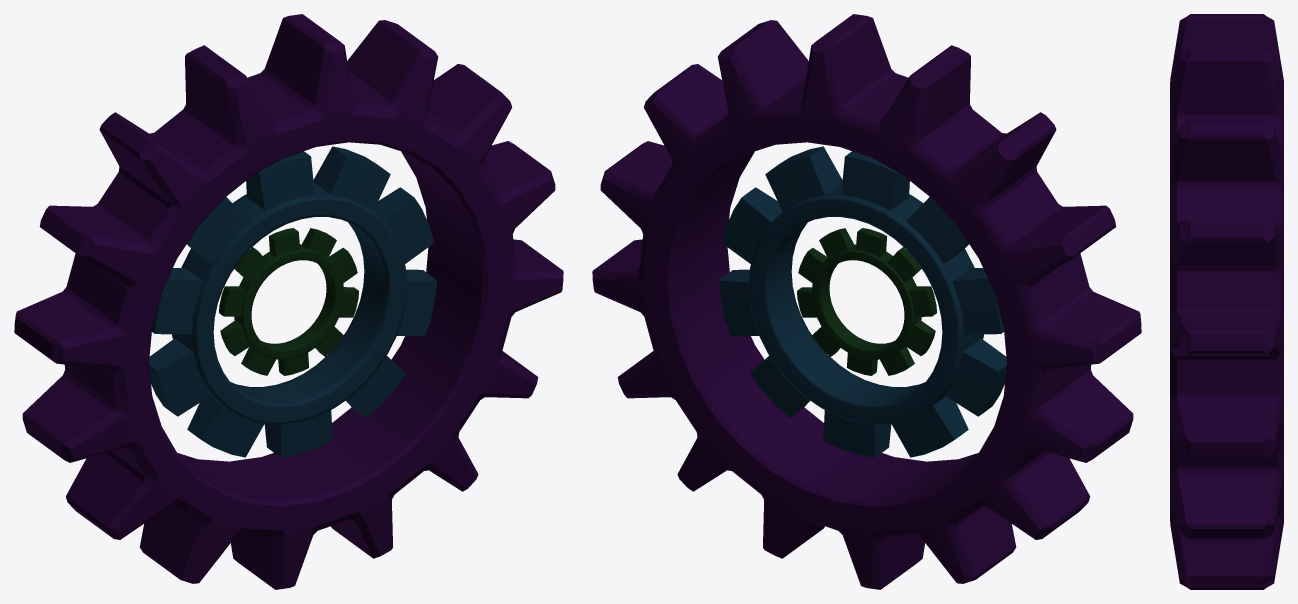
File: medal_Copper.fbx
3 renders of one model, left to right at view 1: azimuth 30°, elevation 25°; view 2: azimuth 150°, elevation 25°; view 3: azimuth 270°, elevation 25°, orthographic. The views are drawn at different scales.
Parts seen in each view (by area): view 1: medal_gear_kan_pCylinder19; view 2: medal_gear_kan_pCylinder19; view 3: medal_gear_kan_pCylinder19.
Part boxes in pixels (bbox=[...]): medal_gear_kan_pCylinder19: bbox=[14, 14, 563, 589]; medal_gear_kan_pCylinder19: bbox=[592, 14, 1141, 589]; medal_gear_kan_pCylinder19: bbox=[1170, 14, 1283, 589].
Bounding box in the file's own units: 2.88 × 2.88 × 0.5675.
